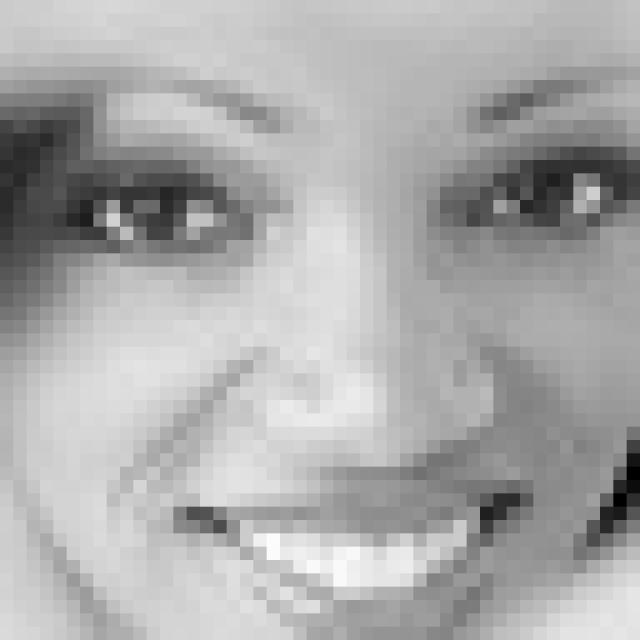happy: (59, 59, 640, 640)
